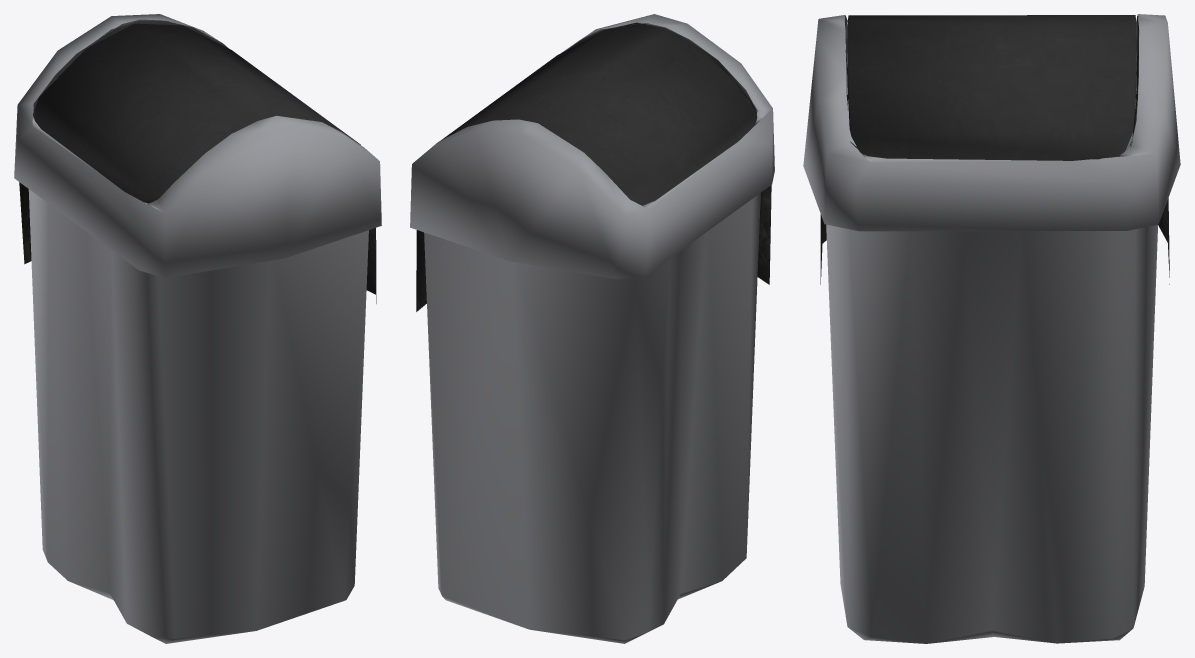
File: PlasticBinProject.fbx
3 views of the same model, side by side, from view 1: azimuth 30°, elevation 25°; view 2: azimuth 150°, elevation 25°; view 3: azimuth 270°, elevation 25° (orthographic). The views are drawn at different scales.
Parts seen in each view (by area): view 1: Waste Basket.001; view 2: Waste Basket.001; view 3: Waste Basket.001.
Boxes of the visible parts, box(x1,y1,x2,y2) form: Waste Basket.001: box(14, 14, 381, 643); Waste Basket.001: box(410, 14, 774, 643); Waste Basket.001: box(803, 14, 1180, 643).
Size of the model in its own units: 5236 by 10260 by 6186.
